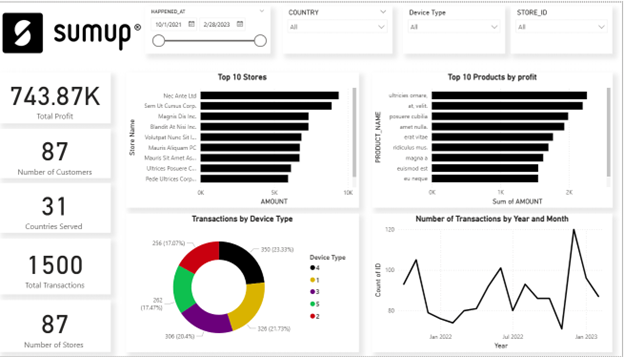

What the dashboard file says about the page in this screenshot:
{"tool":"powerbi","page":{"name":"Sumup","canvas":[1307,742],"ordinal":0},"visuals":[{"type":"card","fields":{"Values":["FCT_TRANSACTIONS.AMOUNT"]},"box":[0,145.7,234.3,107.1],"z":0},{"type":"clusteredBarChart","title":"Top 10 Stores","fields":{"Category":["DIM_STORES.NAME"],"Y":["FCT_TRANSACTIONS.AMOUNT"]},"box":[265.7,145.7,488.6,284.3],"z":1000},{"type":"card","fields":{"Values":["DIM_STORES.CUSTOMER_ID"]},"box":[0,264.6,234.3,102.9],"z":2000},{"type":"slicer","fields":{"Values":["DIM_STORES.COUNTRY"]},"box":[595,7.5,230,100],"z":3000},{"type":"slicer","fields":{"Values":["FCT_TRANSACTIONS.HAPPENED_AT"]},"box":[305.7,7.1,262.9,100],"z":4000},{"type":"barChart","title":"Top 10 Products by profit","fields":{"Category":["FCT_TRANSACTIONS.PRODUCT_NAME"],"Y":["FCT_TRANSACTIONS.AMOUNT"]},"box":[782.5,146.2,505,283.8],"z":5000},{"type":"card","fields":{"Values":["DIM_STORES.COUNTRY"]},"box":[0,379.3,234.3,104.3],"z":6000},{"type":"card","fields":{"Values":["FCT_TRANSACTIONS.ID"]},"box":[0,495.4,234.3,117.1],"z":7000},{"type":"slicer","fields":{"Values":["DIM_DEVICES.TYPE"]},"box":[847.1,7.1,214.3,100],"z":8000},{"type":"lineChart","title":"Number of Transactions by Year and Month","fields":{"Category":["FCT_TRANSACTIONS.HAPPENED_AT.Variation.Date Hierarchy.Year","FCT_TRANSACTIONS.HAPPENED_AT.Variation.Date Hierarchy.Month"],"Y":["FCT_TRANSACTIONS.ID"]},"box":[782.9,442.9,504.3,290],"z":9000},{"type":"slicer","fields":{"Values":["DIM_DEVICES.STORE_ID"]},"box":[1074.3,7.1,212.9,100],"z":10000},{"type":"image","box":[0,7.5,305,113.8],"z":11000},{"type":"donutChart","fields":{"Category":["DIM_DEVICES.TYPE"],"Y":["FCT_TRANSACTIONS.ID"]},"box":[265.7,442.9,488.6,290],"z":12000},{"type":"card","fields":{"Values":["DIM_STORES.ID"]},"box":[0,624.3,234.3,108.6],"z":13000}]}

Visuals, with their boxes in screenshot pixels (x1, y1, x2, y2), scaled from the page's 1307x742 canvas onto the 624x357 screenshot:
card - FCT_TRANSACTIONS.AMOUNT: 0,70,112,122
"Top 10 Stores" clusteredBarChart: 127,70,360,207
card - DIM_STORES.CUSTOMER_ID: 0,127,112,177
slicer - DIM_STORES.COUNTRY: 284,4,394,52
slicer - FCT_TRANSACTIONS.HAPPENED_AT: 146,3,271,52
"Top 10 Products by profit" barChart: 374,70,615,207
card - DIM_STORES.COUNTRY: 0,182,112,233
card - FCT_TRANSACTIONS.ID: 0,238,112,295
slicer - DIM_DEVICES.TYPE: 404,3,507,52
"Number of Transactions by Year and Month" lineChart: 374,213,615,353
slicer - DIM_DEVICES.STORE_ID: 513,3,615,52
image: 0,4,146,58
donutChart - DIM_DEVICES.TYPE x FCT_TRANSACTIONS.ID: 127,213,360,353
card - DIM_STORES.ID: 0,300,112,353
